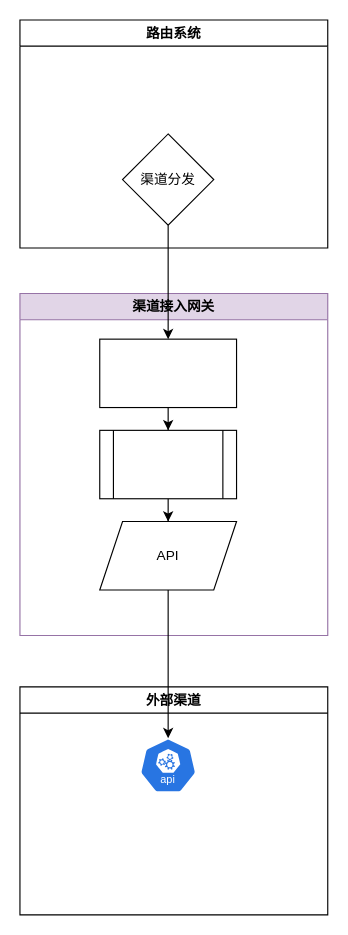
Image size: 348x935. Some labels were removed from this diagram. The shapes that lost their labels are listed below. From the top down, each one's centre as x and y in pixels, then its label:
the point at 168,373: SPI
the point at 168,464: Process
